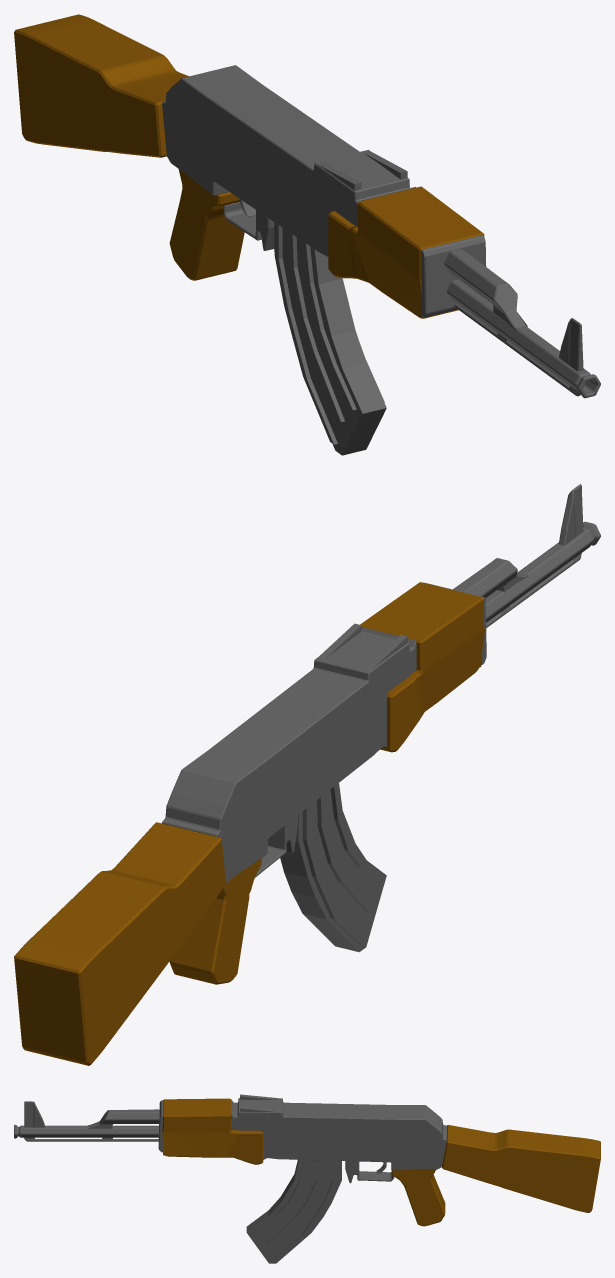
File: NewAk.fbx
3 renders of one model, top to bottom at view 1: azimuth 30°, elevation 25°; view 2: azimuth 150°, elevation 25°; view 3: azimuth 270°, elevation 25°, orthographic. The views are drawn at different scales.
Visible parts, largest first — view 1: Front_metal, Handle, Mag; view 2: Handle, Front_metal, Mag; view 3: Handle, Front_metal, Mag.
Boxes of the visible parts, x1=… form: Front_metal: x1=162, y1=65, x2=600, y2=398; Handle: x1=14, y1=14, x2=484, y2=318; Mag: x1=274, y1=222, x2=386, y2=455; Handle: x1=14, y1=582, x2=484, y2=1065; Front_metal: x1=162, y1=484, x2=600, y2=882; Mag: x1=280, y1=783, x2=386, y2=952; Handle: x1=162, y1=1098, x2=600, y2=1226; Front_metal: x1=14, y1=1094, x2=446, y2=1183; Mag: x1=246, y1=1159, x2=341, y2=1263.
Bounding box in the file's own units: 70.24 × 284 × 949.
